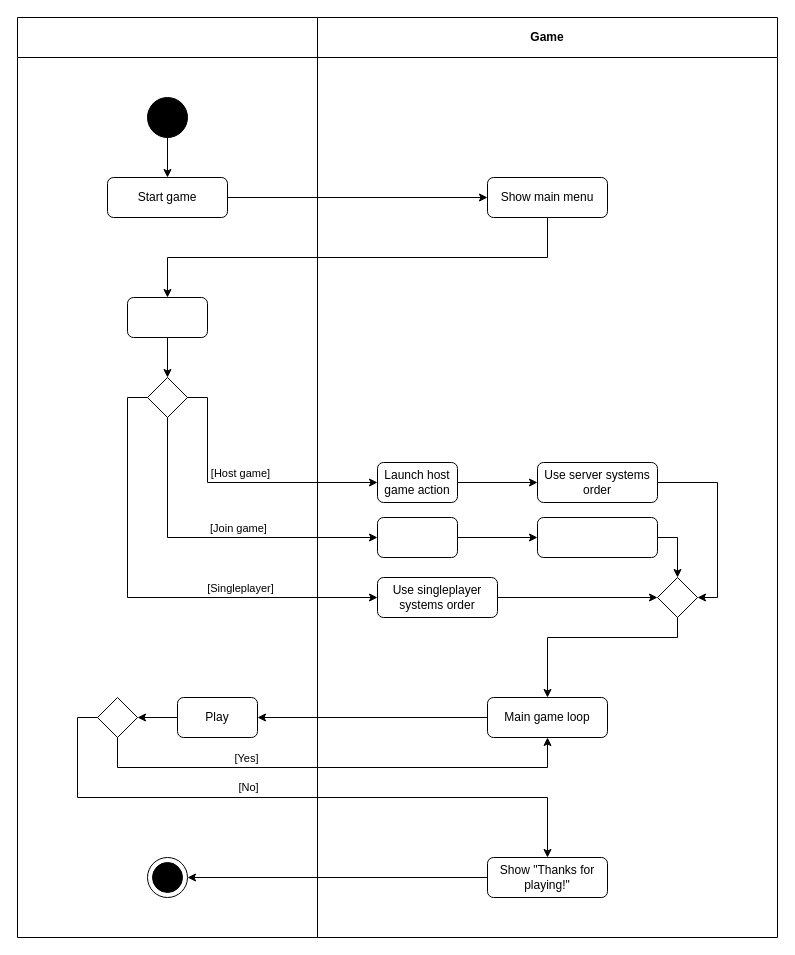
Some shapes in this 795 by 955 pixel diagram are drawn without their labels. Each missing label, with the box of its shape:
Choose gamemode: (126, 296, 208, 338)
Launch join action: (376, 516, 458, 558)
Player: (16, 16, 318, 938)
Use join systems order: (536, 516, 658, 558)
